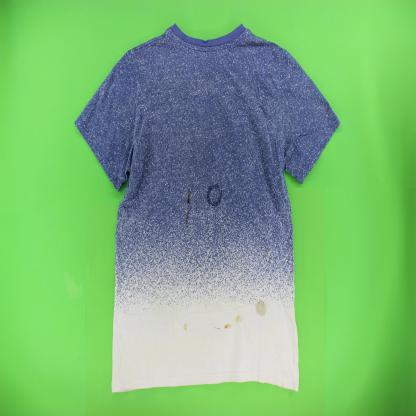stain: (210, 312, 244, 334), (204, 182, 225, 211), (184, 188, 192, 232), (253, 296, 268, 319), (182, 321, 190, 331)
